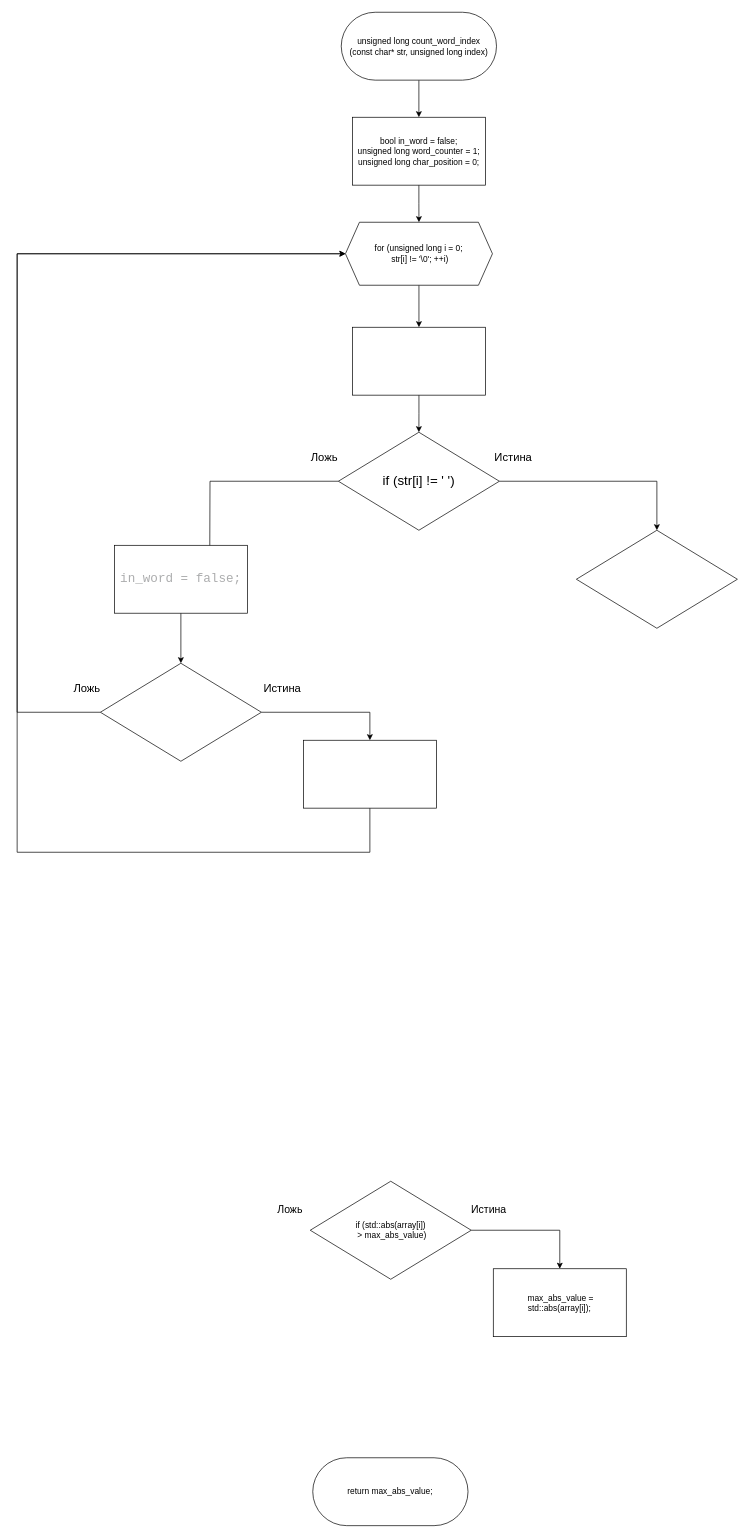
Image size: 750x1538. Some labels were removed from this diagram. The box of each missing label's shape, as (x1, y1, x2, y2) in pixels:
bool is_char_start = ((str[i] & 0xC0) != 0x80);: (352, 327, 485, 395)
char_position++;: (303, 740, 436, 808)
if (!in_word): (576, 530, 737, 628)
if (is_char_start): (100, 663, 261, 761)
